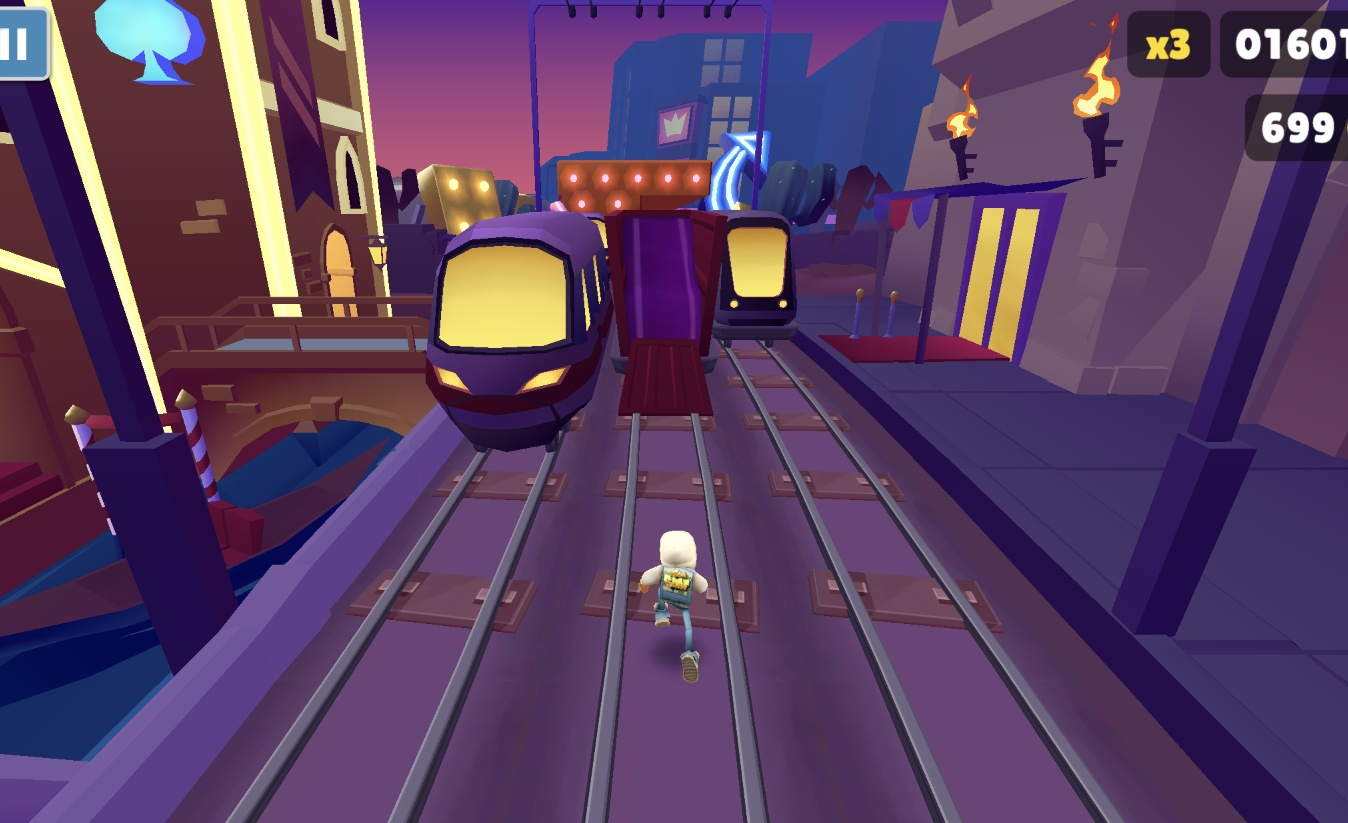pillar: (573, 207, 630, 280)
train: (421, 213, 610, 490), (610, 207, 728, 433), (714, 217, 785, 337)
